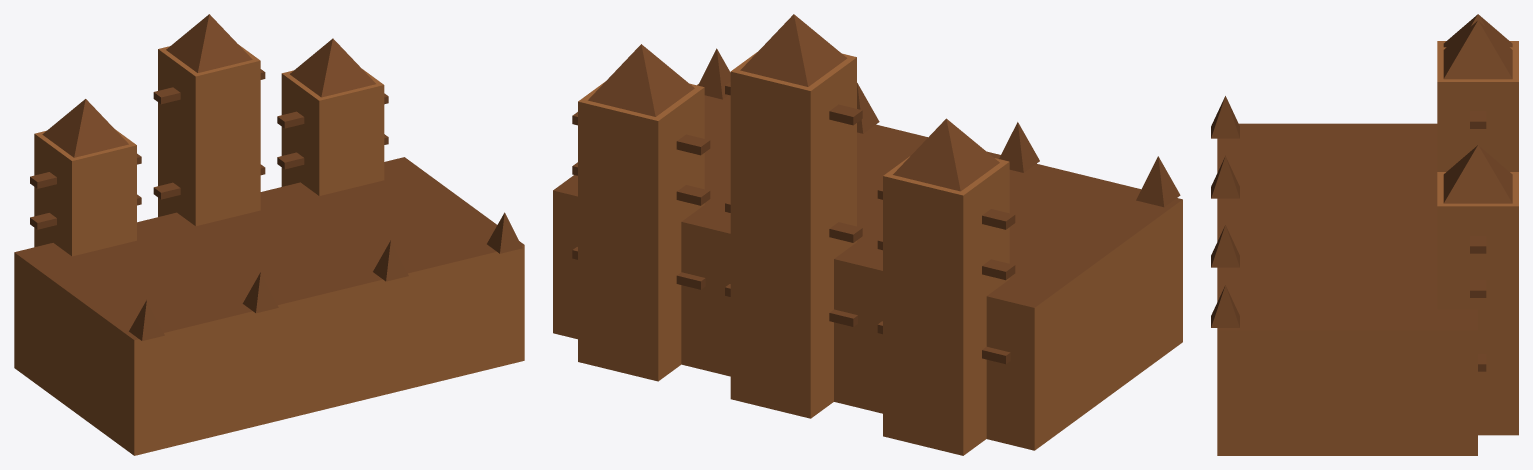
File: mosque.glb
The picture shows the model from 3 angles, left to right: view 1: azimuth 30°, elevation 25°; view 2: azimuth 150°, elevation 25°; view 3: azimuth 270°, elevation 25°; orthographic projection. The views are drawn at different scales.
Visible parts, largest first — view 1: mosque; view 2: mosque; view 3: mosque.
Part boxes in pixels (x1,y1,x2,y2): mosque: [14, 14, 524, 455]; mosque: [553, 14, 1182, 455]; mosque: [1211, 14, 1518, 455].
Size of the model in its own units: 1.2 by 0.9 by 0.7554.
